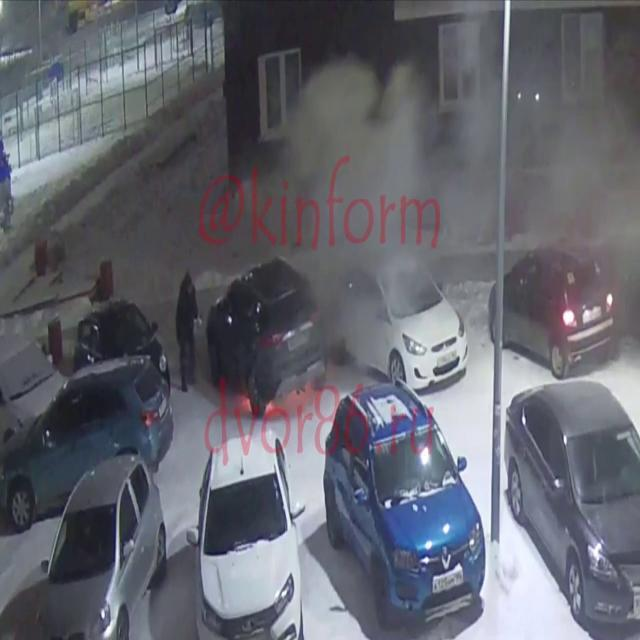Smoke: (220, 2, 640, 359)
